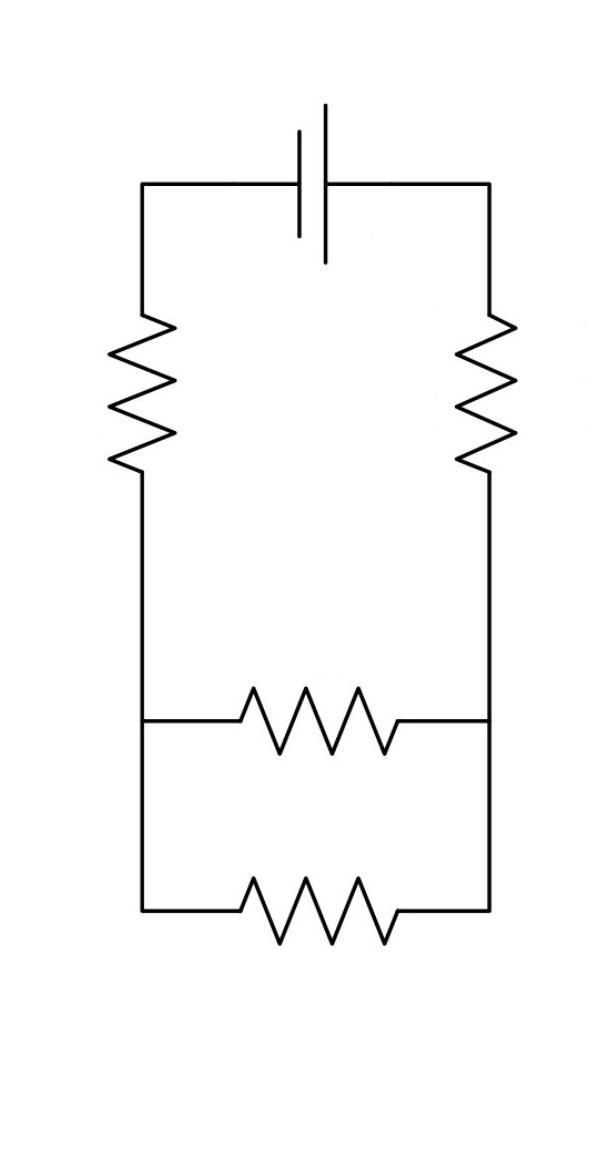resistor: (181, 842, 456, 1002), (181, 658, 456, 802), (84, 260, 228, 523), (387, 269, 544, 507)
